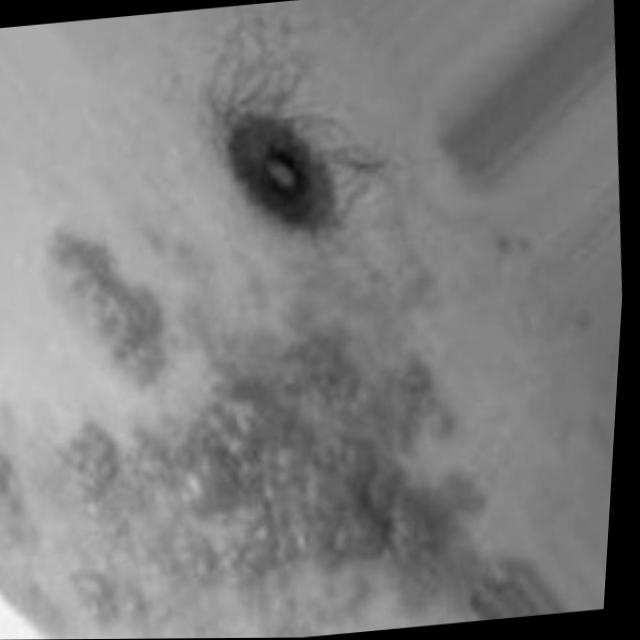Shingles: (0, 191, 511, 640)
